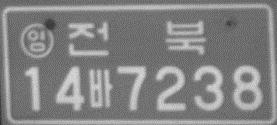1: (20, 65, 50, 112)
2: (153, 64, 186, 112)
3: (192, 64, 224, 112)
4: (54, 65, 84, 111)
7: (116, 64, 146, 111)
8: (231, 64, 264, 112)
바: (88, 68, 114, 109)
영: (19, 21, 54, 58)
전북_D: (67, 19, 206, 57)
